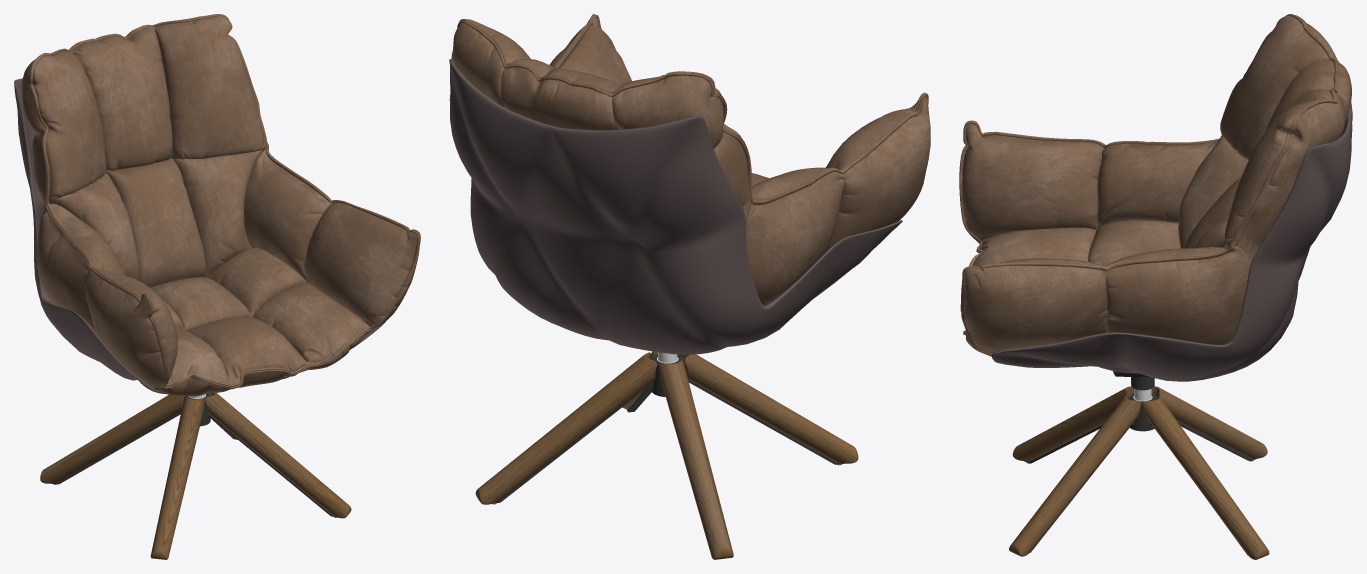
File: chair.glb
3 views of the same model, side by side, from view 1: azimuth 30°, elevation 25°; view 2: azimuth 150°, elevation 25°; view 3: azimuth 270°, elevation 25° (orthographic). The views are drawn at different scales.
Visible parts, largest first — view 1: Fabric, Wood, Plastic, Metal; view 2: Plastic, Fabric, Wood, Metal; view 3: Fabric, Plastic, Wood, Metal.
Part boxes in pixels (bbox=[...]): Fabric: bbox=[21, 14, 420, 396]; Wood: bbox=[40, 393, 351, 559]; Plastic: bbox=[14, 78, 385, 394]; Metal: bbox=[51, 393, 337, 517]; Plastic: bbox=[449, 58, 902, 354]; Fabric: bbox=[451, 14, 930, 305]; Wood: bbox=[475, 351, 858, 559]; Metal: bbox=[492, 352, 843, 504]; Fabric: bbox=[959, 14, 1351, 356]; Plastic: bbox=[991, 102, 1352, 381]; Wood: bbox=[1009, 386, 1269, 559]; Metal: bbox=[1024, 371, 1255, 555].
Size of the model in its own units: 0.7 by 0.94 by 0.75.
Materials: 4 (4 with a texture image).
